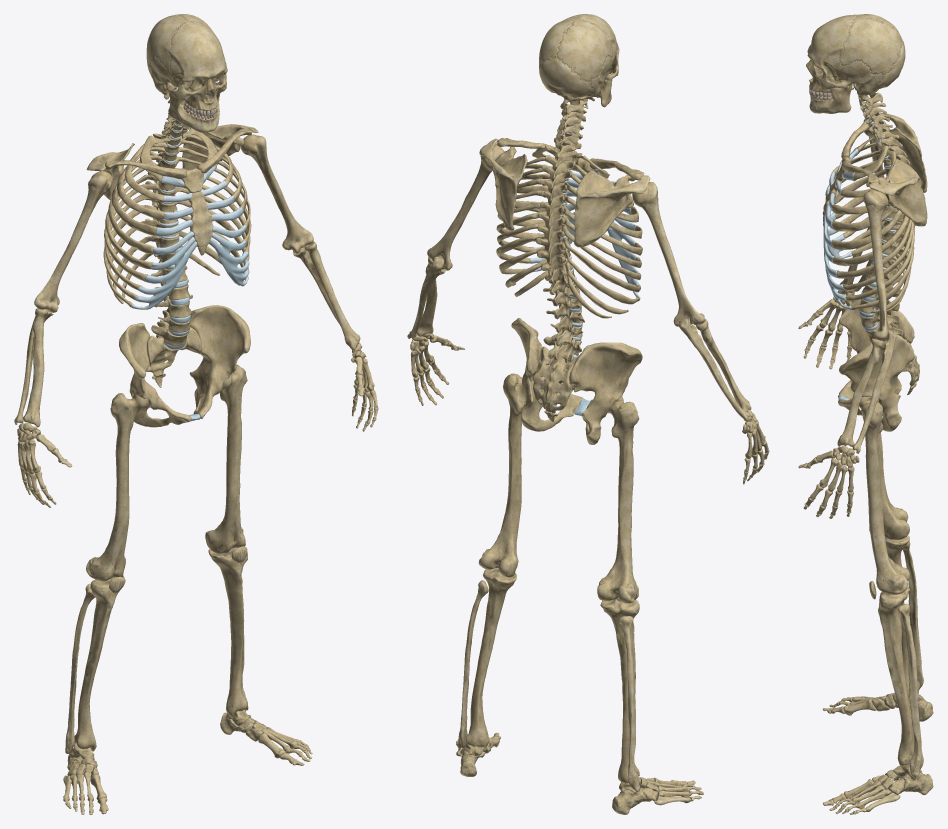
Rendered from bones.glb.
3 views of the same model, side by side, from view 1: azimuth 30°, elevation 25°; view 2: azimuth 150°, elevation 25°; view 3: azimuth 270°, elevation 25° (orthographic). The views are drawn at different scales.
Parts seen in each view (by area): view 1: Cranium_m, Rib_Cage_r, Pelvis_l, Femur_r, Femur_l, Rib_Cage_l, Costal_Cartilage_r, Tibia_l, Tibia_r, Pelvis_r, Costal_Cartilage_l, Humerus_r (+17 smaller); view 2: Cranium_m, Rib_Cage_r, Femur_r, Pelvis_r, Rib_Cage_l, Femur_l, Thoracic_m, Scapula_r, Tibia_l, Pelvis_l, Tibia_r, Scapula_l (+16 smaller); view 3: Cranium_m, Rib_Cage_l, Femur_l, Tibia_l, Pelvis_l, Foot_l, Scapula_l, Hand_l, Humerus_l, Pelvis_r, Fibula_l, Hand_r (+18 smaller).
Boxes of the visible parts, x1,y1,x2,y2 form: Cranium_m: (146,14,227,111); Rib_Cage_r: (103,135,170,307); Pelvis_l: (189,305,250,419); Femur_r: (86,393,150,581); Femur_l: (205,364,247,553); Rib_Cage_l: (174,128,251,275); Costal_Cartilage_r: (131,176,197,309); Tibia_l: (208,548,247,717); Tibia_r: (74,576,124,751); Pelvis_r: (119,323,191,427); Costal_Cartilage_l: (201,165,249,286); Humerus_r: (34,171,112,312); Cranium_m: (539,14,619,97); Rib_Cage_r: (561,155,642,318); Femur_r: (597,396,639,603); Pelvis_r: (569,342,642,444); Rib_Cage_l: (496,145,554,296); Femur_l: (478,373,525,577); Thoracic_m: (536,144,582,294); Scapula_r: (574,170,650,247); Tibia_l: (466,568,516,746); Pelvis_l: (511,318,583,431); Tibia_r: (600,598,639,783); Scapula_l: (479,138,527,230); Cranium_m: (806,14,905,95); Rib_Cage_l: (831,142,914,313); Femur_l: (858,396,909,594); Tibia_l: (878,587,914,765); Pelvis_l: (838,334,914,431); Foot_l: (822,764,933,814); Scapula_l: (866,160,927,226); Hand_l: (798,445,859,518); Humerus_l: (863,189,890,341); Pelvis_r: (838,294,914,399); Fibula_l: (898,603,923,777); Hand_r: (798,291,855,369).
Size of the model in its own units: 0.8484 by 1.79 by 0.2947.
Materials: 1 (1 with a texture image).
